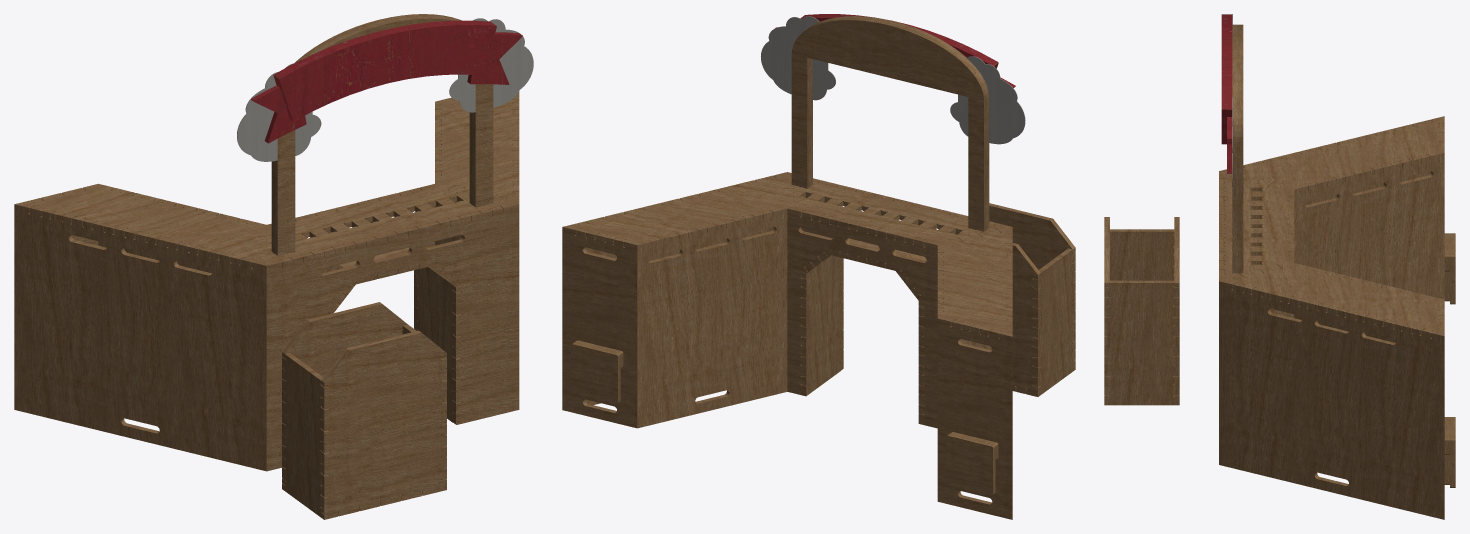
The model's file is theater.glb.
The picture shows the model from 3 angles, left to right: view 1: azimuth 30°, elevation 25°; view 2: azimuth 150°, elevation 25°; view 3: azimuth 270°, elevation 25°; orthographic projection. The views are drawn at different scales.
Parts seen in each view (by area): view 1: theaer; view 2: theaer; view 3: theaer.
Boxes of the visible parts, <box> form: theaer: <box>14,14,533,519</box>; theaer: <box>562,14,1075,519</box>; theaer: <box>1104,14,1455,519</box>.
Bounding box in the file's own units: 1.83 × 1.42 × 1.23.
3 materials, 3 textured.
